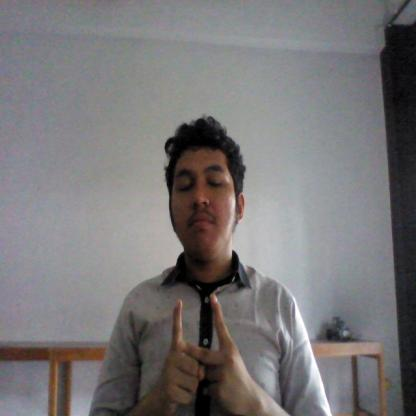H: (160, 293, 242, 416)
